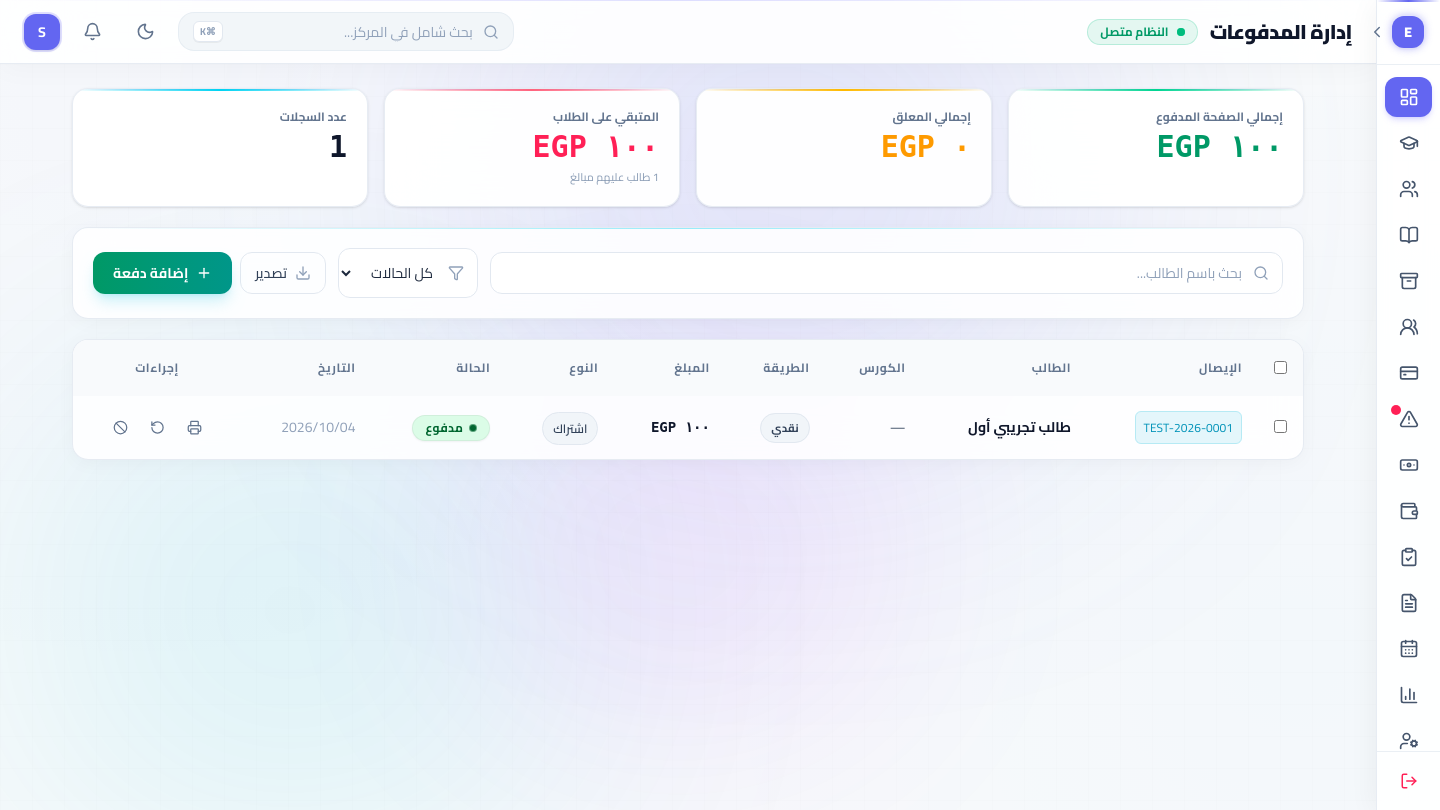
Test: payment form and reversal dialogs › preserves refund metadata and balances after the refund dialog is extracted
Click the button named "استرداد مبلغ" at coordinates (157, 427), box top-left (142, 412), bottom-right (172, 442)
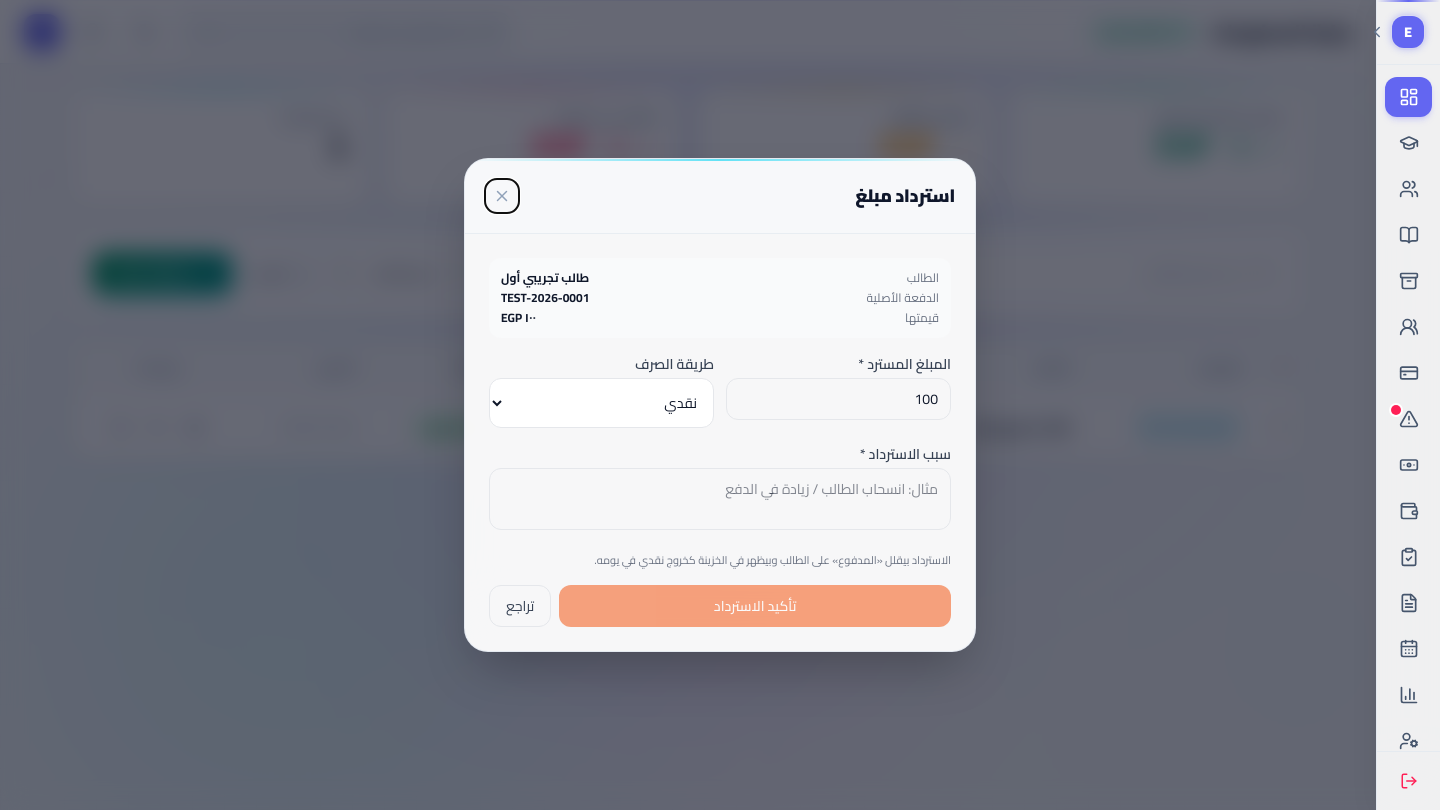
Now the number field is shown
Replace the text in the number field with "25" at coordinates (838, 399), box top-left (726, 378), bottom-right (951, 420)
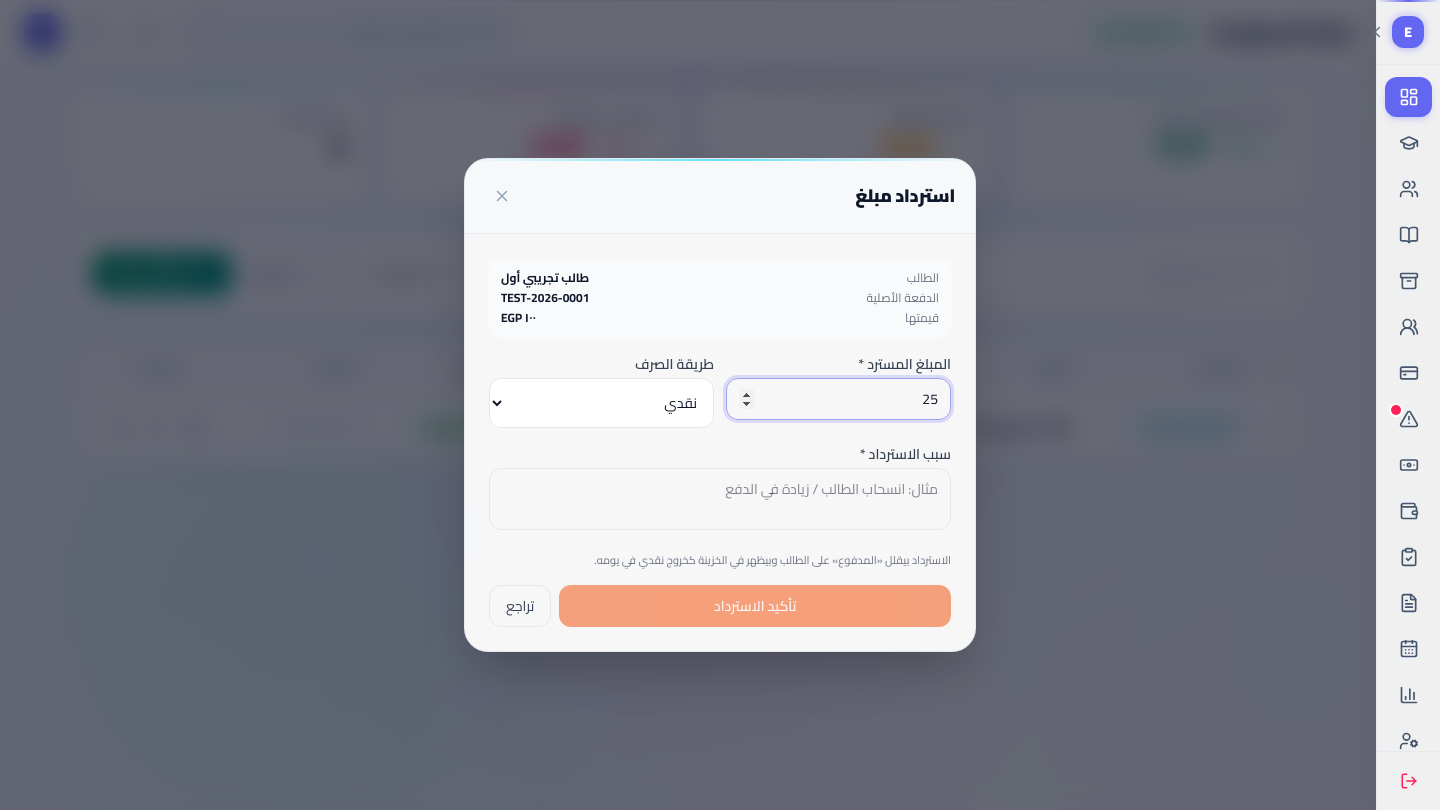
Now the text box with placeholder "مثال: انسحاب الطالب / زيادة في الدفع" is shown
Type "استرداد اختبار" into the text box with placeholder "مثال: انسحاب الطالب / زيادة في الدفع" at coordinates (720, 499), box top-left (489, 468), bottom-right (951, 530)
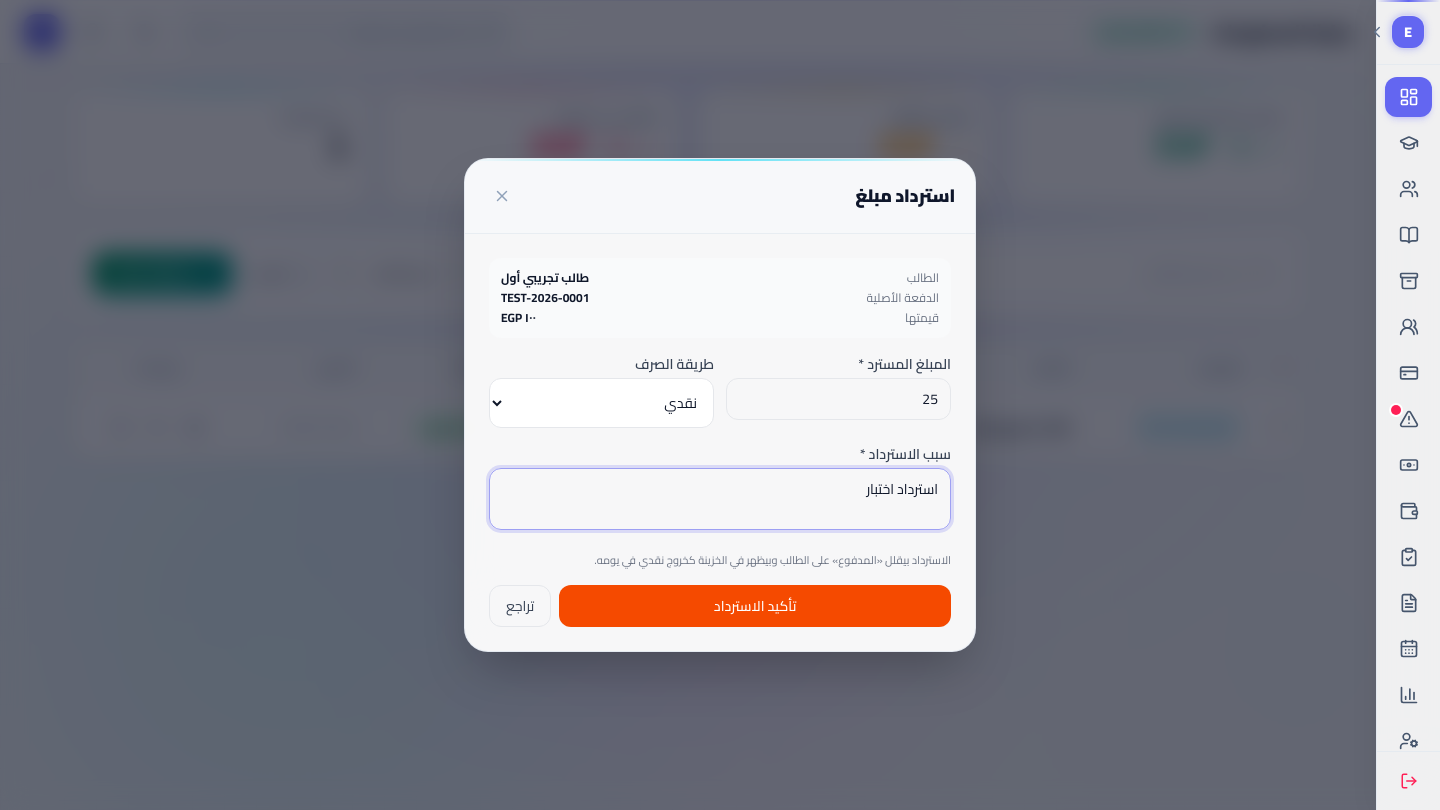
Click the button "تأكيد الاسترداد" at coordinates (755, 606), box top-left (559, 585), bottom-right (951, 627)
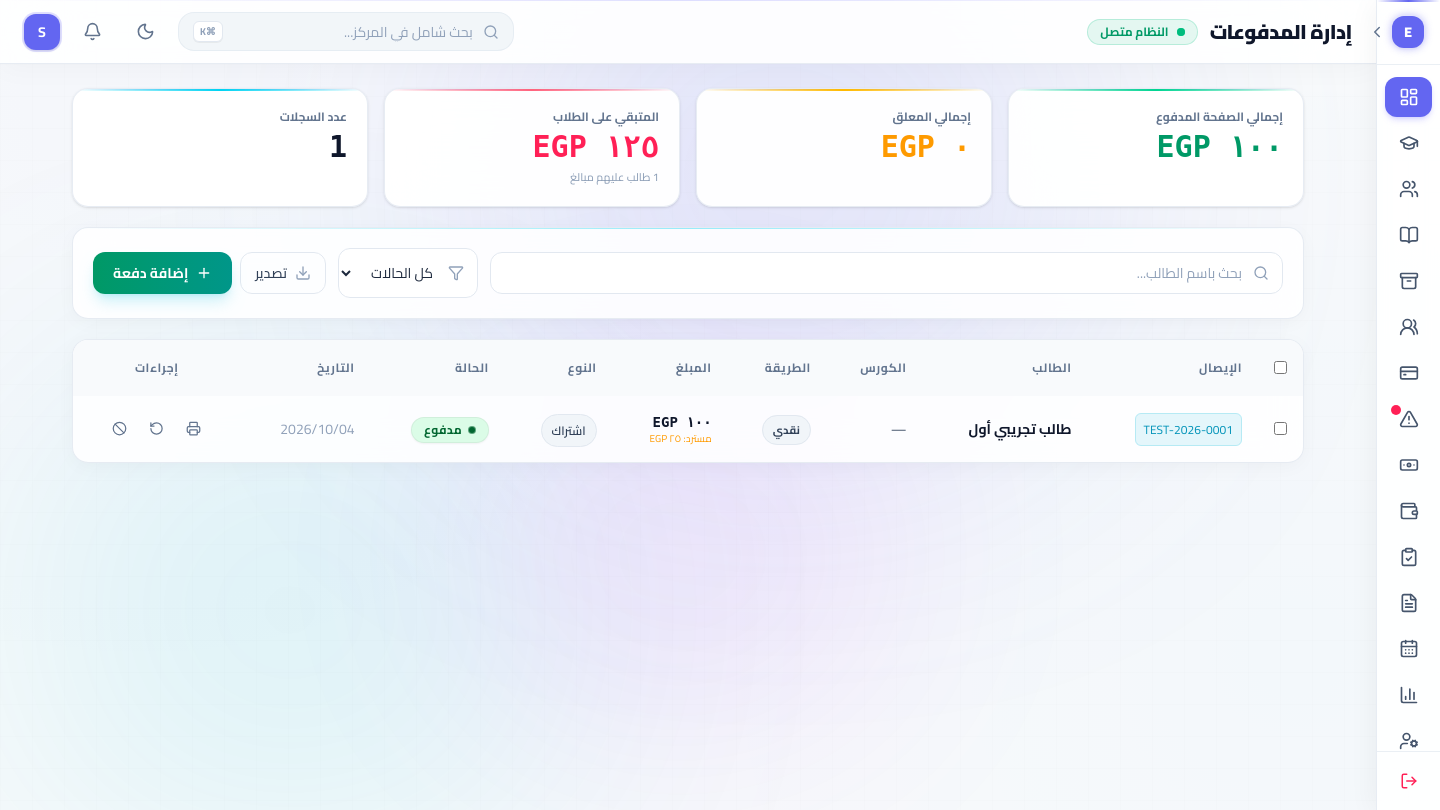
Now the dialog is gone
